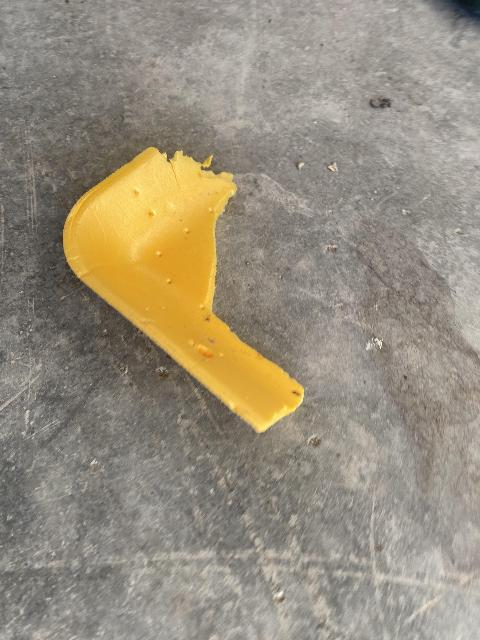Plastik: (54, 148, 308, 429)
